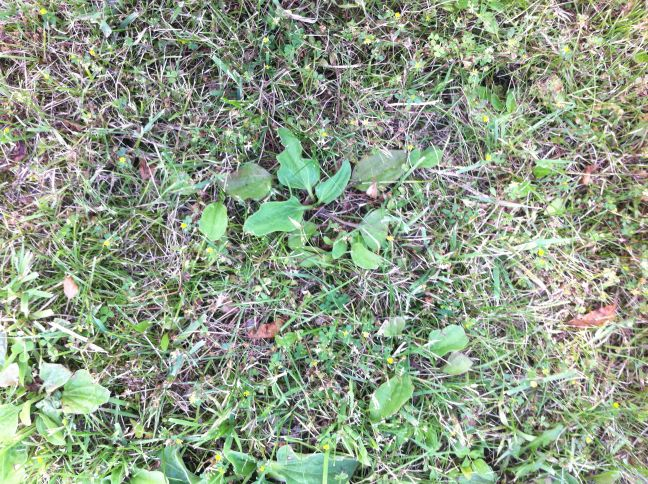weed1: (240, 125, 393, 272), (368, 312, 473, 430), (1, 349, 113, 458), (146, 430, 360, 484)
